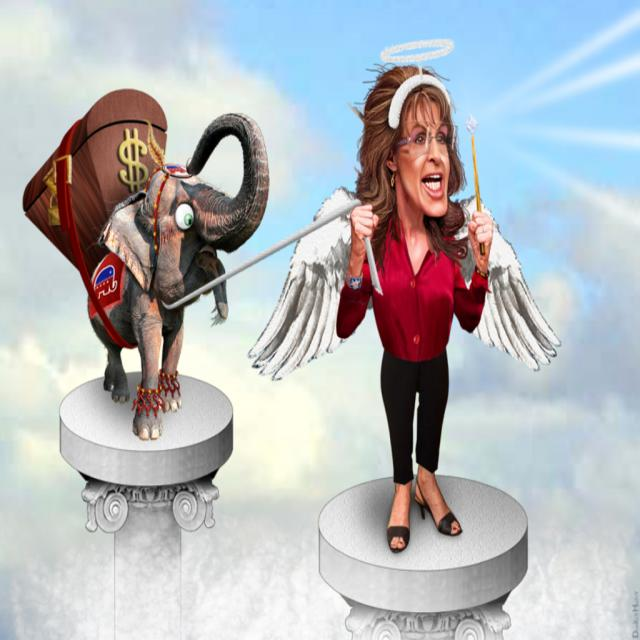elephant: (86, 107, 288, 398)
